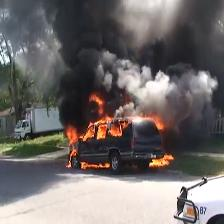fire: (89, 123, 117, 138), (153, 156, 172, 165)
smoke: (61, 4, 219, 106)
